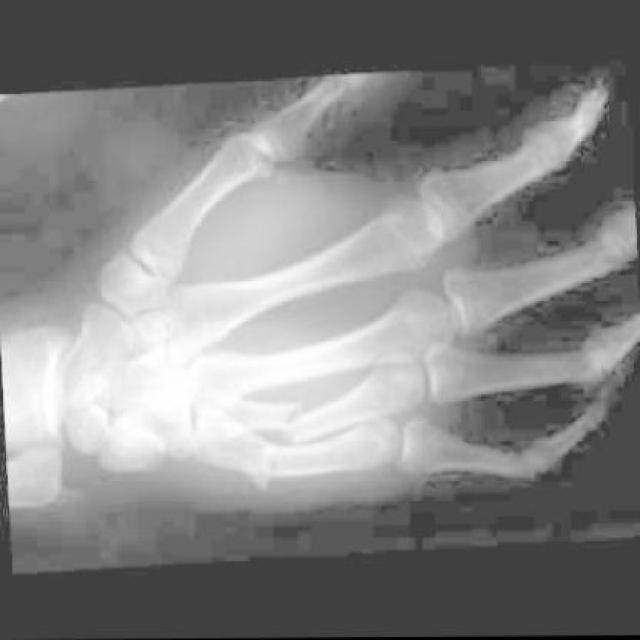Fracture: (242, 431, 302, 499), (272, 397, 330, 453)
